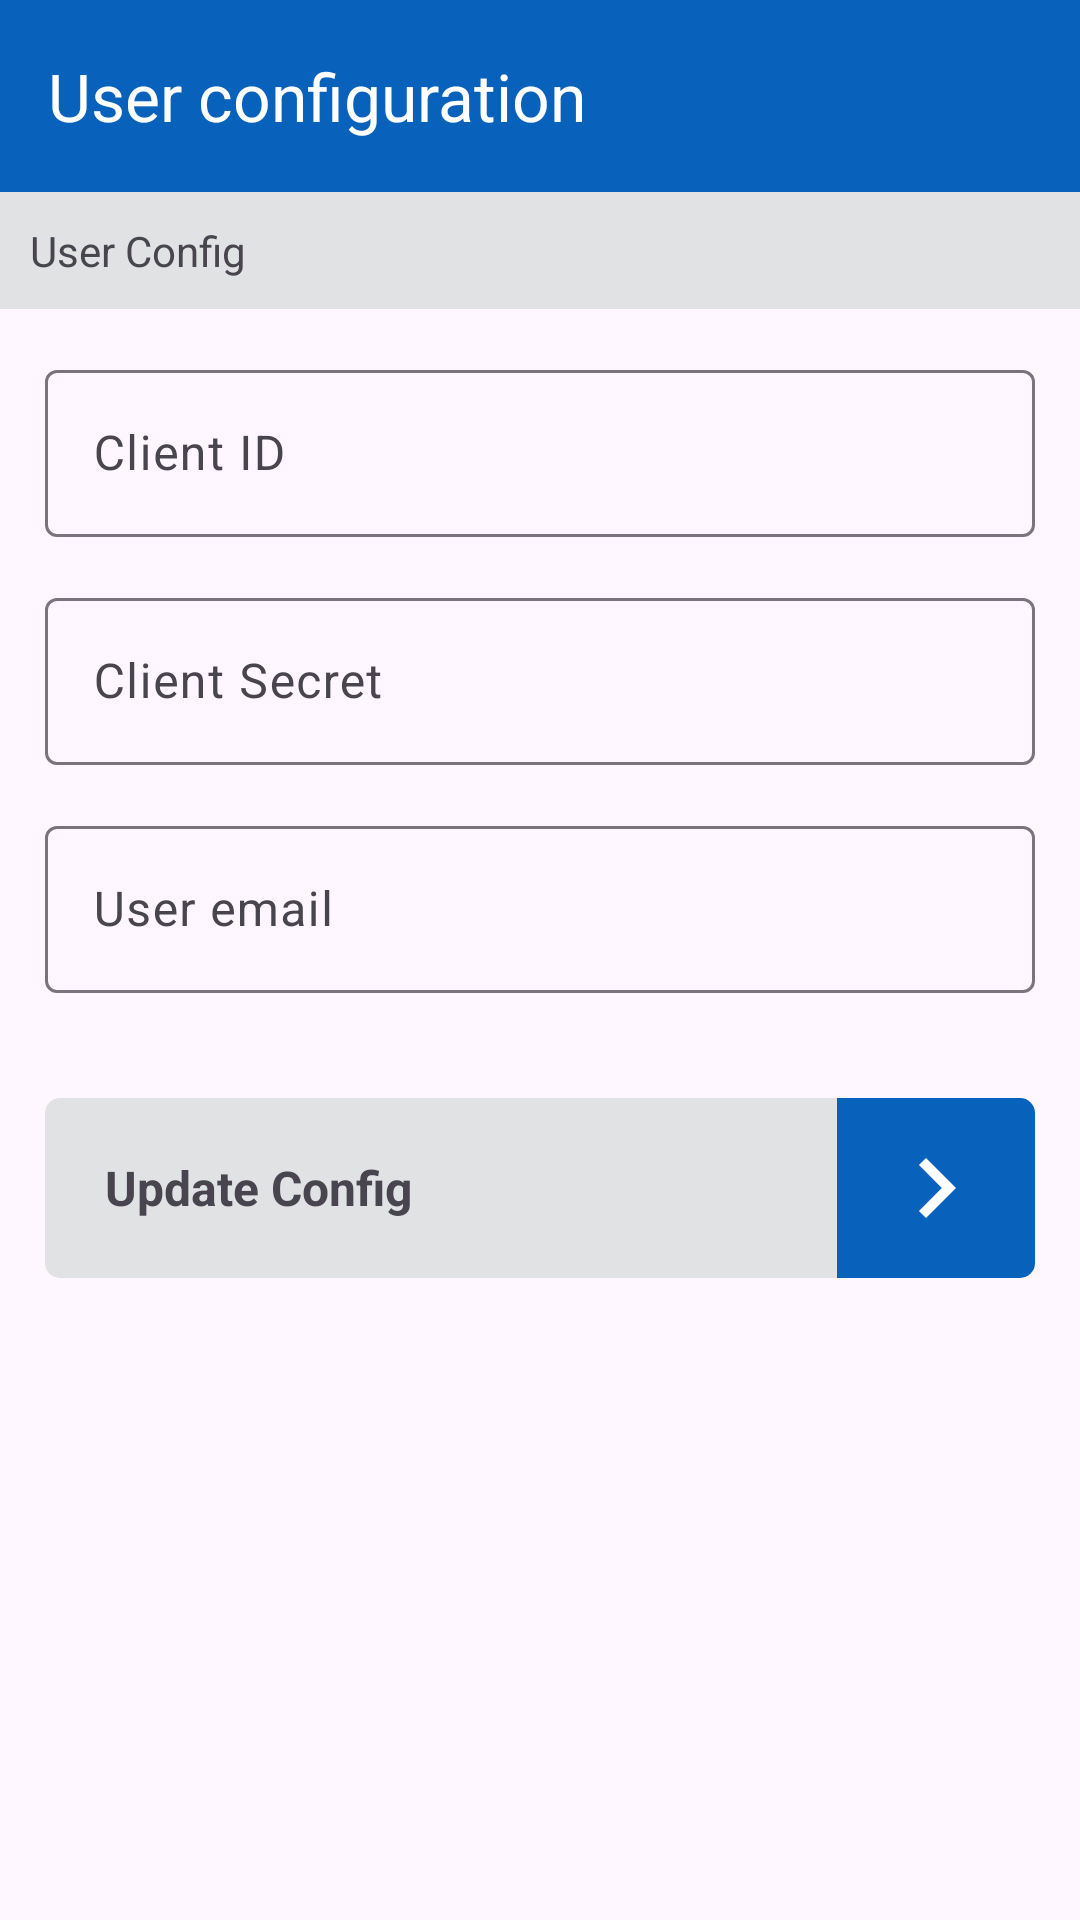

Screen size 1080px x 1920px. Icon name, then its box in pixels as (x1, y1, x2, y2):
chevron right: (837, 1098, 1035, 1278)
